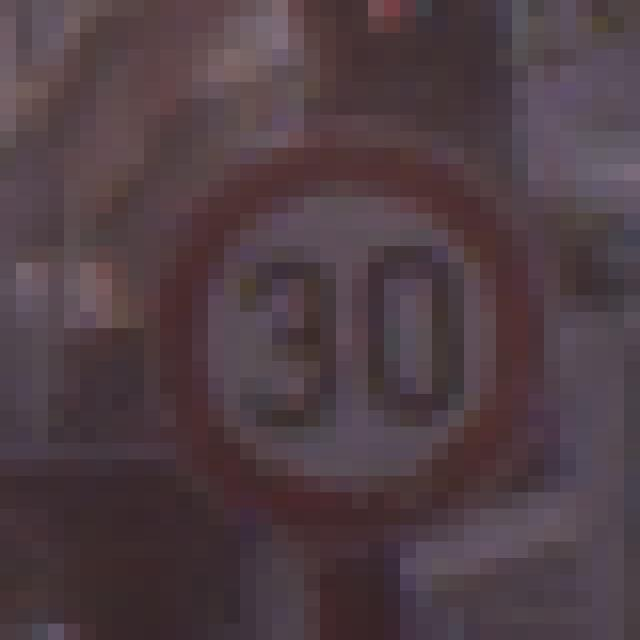Speed Limit -30-: (88, 74, 552, 550)
